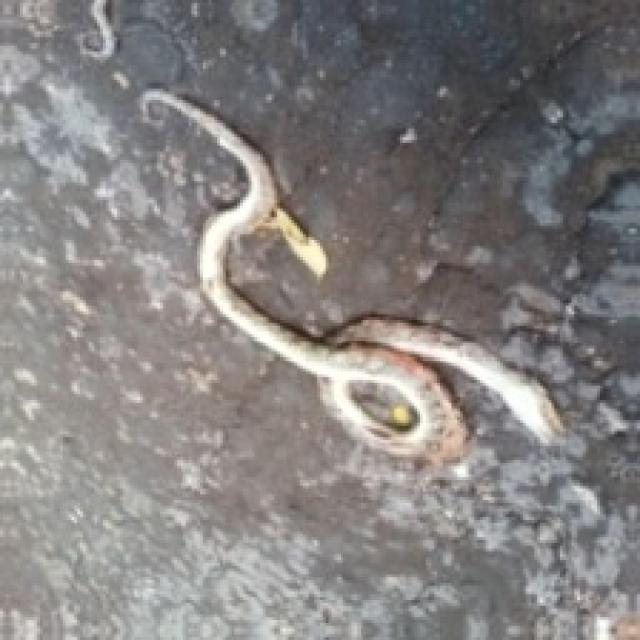reticulated python: (140, 89, 563, 460)
